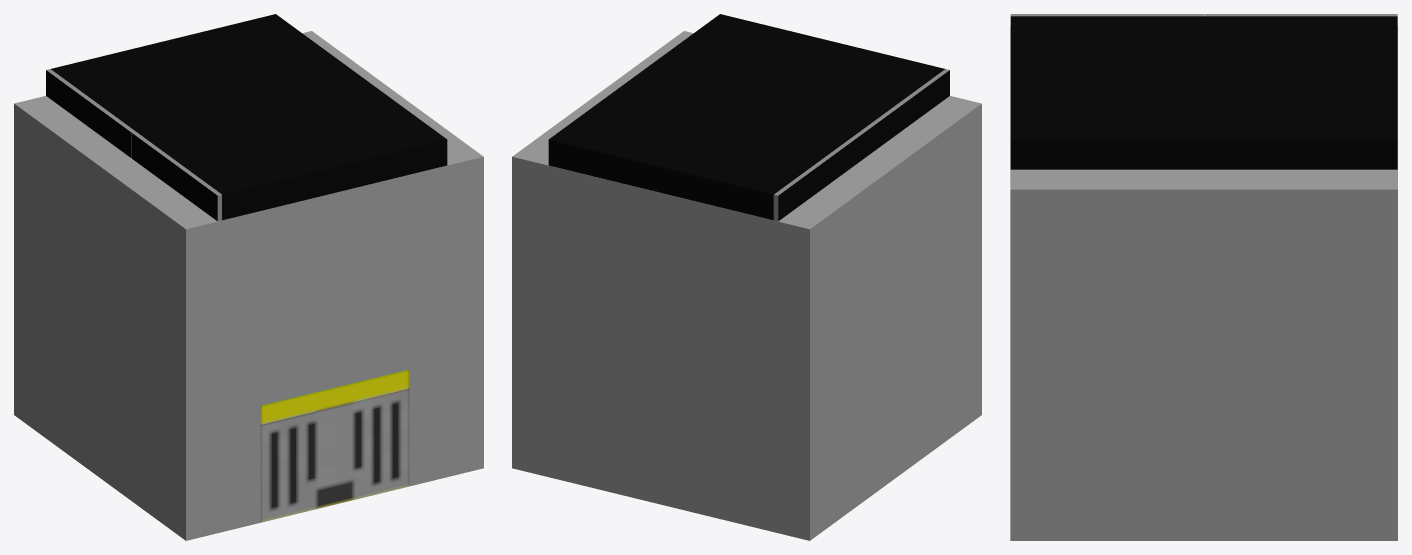
The model's file is transformatorCase.obj.
The picture shows the model from 3 angles, left to right: view 1: azimuth 30°, elevation 25°; view 2: azimuth 150°, elevation 25°; view 3: azimuth 270°, elevation 25°; orthographic projection. The views are drawn at different scales.
Parts seen in each view (by area): view 1: Minecraft_Block_Cube, Case, DoorR, DoorL; view 2: Minecraft_Block_Cube, Case, DoorL, DoorR; view 3: Minecraft_Block_Cube, Case, DoorL, DoorR.
Part boxes in pixels (x1=…): Minecraft_Block_Cube: x1=14, y1=31, x2=483, y2=540; Case: x1=51, y1=14, x2=447, y2=522; DoorR: x1=132, y1=132, x2=221, y2=221; DoorL: x1=46, y1=69, x2=135, y2=158; Minecraft_Block_Cube: x1=512, y1=31, x2=981, y2=540; Case: x1=548, y1=14, x2=944, y2=220; DoorL: x1=773, y1=132, x2=863, y2=221; DoorR: x1=860, y1=69, x2=949, y2=158; Minecraft_Block_Cube: x1=1010, y1=26, x2=1397, y2=540; Case: x1=1010, y1=16, x2=1397, y2=169; DoorL: x1=1204, y1=14, x2=1397, y2=16; DoorR: x1=1010, y1=14, x2=1203, y2=16.
Bounding box in the file's own units: 1 × 1.08 × 1.
Materials: 3 (2 with a texture image).
